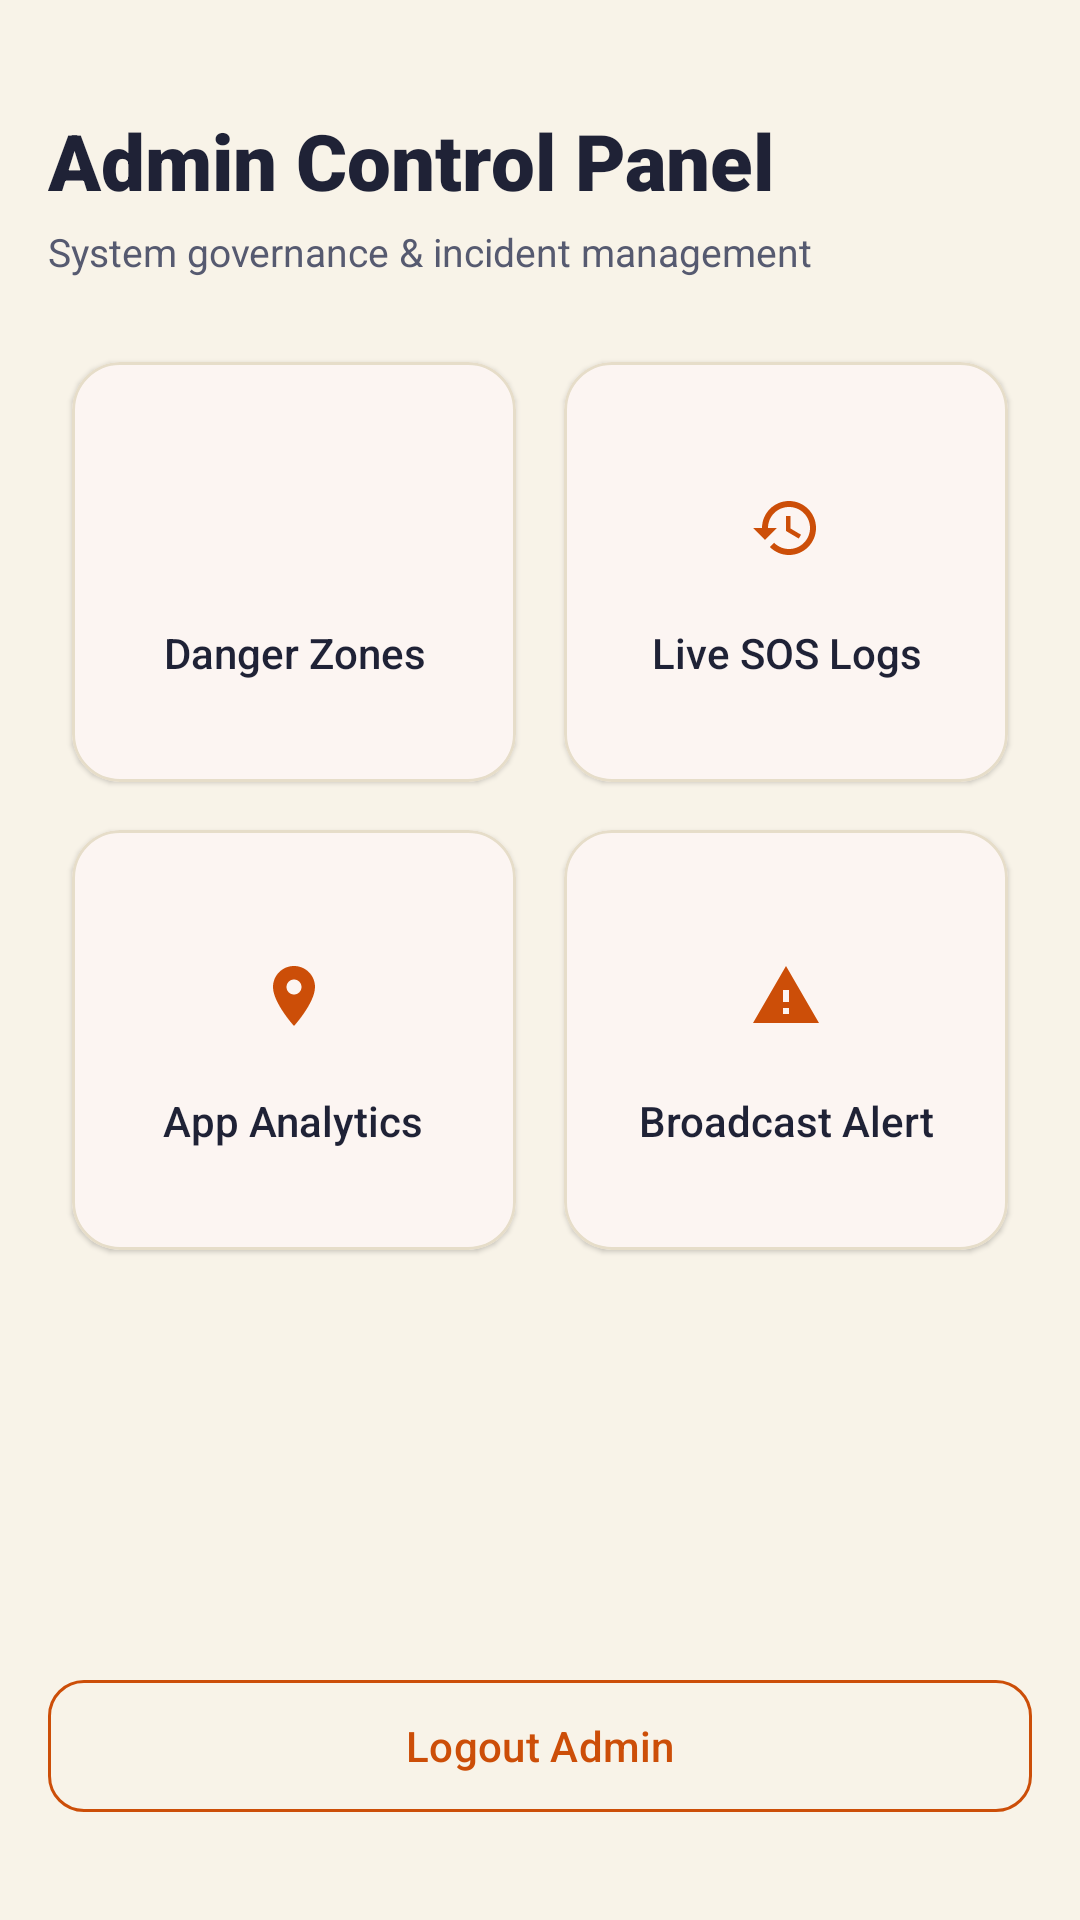

Named icons in this screenshot (1080 x 1920) and their centers, point (x, y):
alert triangle: point (786, 994)
history: point (784, 528)
location pin: point (294, 996)
